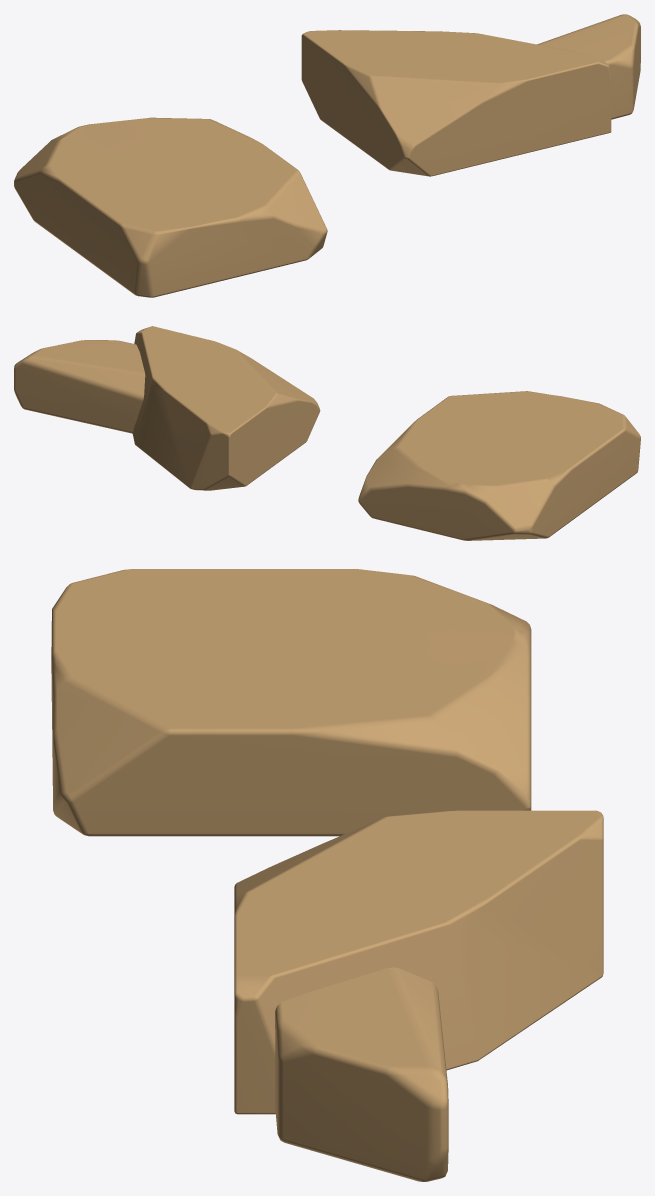
The model's file is Rocks type 7.fbx.
3 views of the same model, one above another, from view 1: azimuth 30°, elevation 25°; view 2: azimuth 150°, elevation 25°; view 3: azimuth 270°, elevation 25° (orthographic). The views are drawn at different scales.
Parts seen in each view (by area): view 1: Cube.072, Cube.073, Cube.130; view 2: Cube.072, Cube.073, Cube.130; view 3: Cube.072, Cube.073, Cube.130.
Boxes of the visible parts, left/top/right/bottom form: Cube.072: left=14, top=117, right=327, bottom=297; Cube.073: left=301, top=30, right=611, bottom=176; Cube.130: left=537, top=14, right=640, bottom=119; Cube.072: left=358, top=391, right=640, bottom=540; Cube.073: left=132, top=326, right=320, bottom=490; Cube.130: left=14, top=340, right=145, bottom=433; Cube.072: left=51, top=569, right=531, bottom=836; Cube.073: left=234, top=810, right=603, bottom=1114; Cube.130: left=275, top=967, right=448, bottom=1181.
Bounding box in the file's own units: 948 × 115 × 426.
